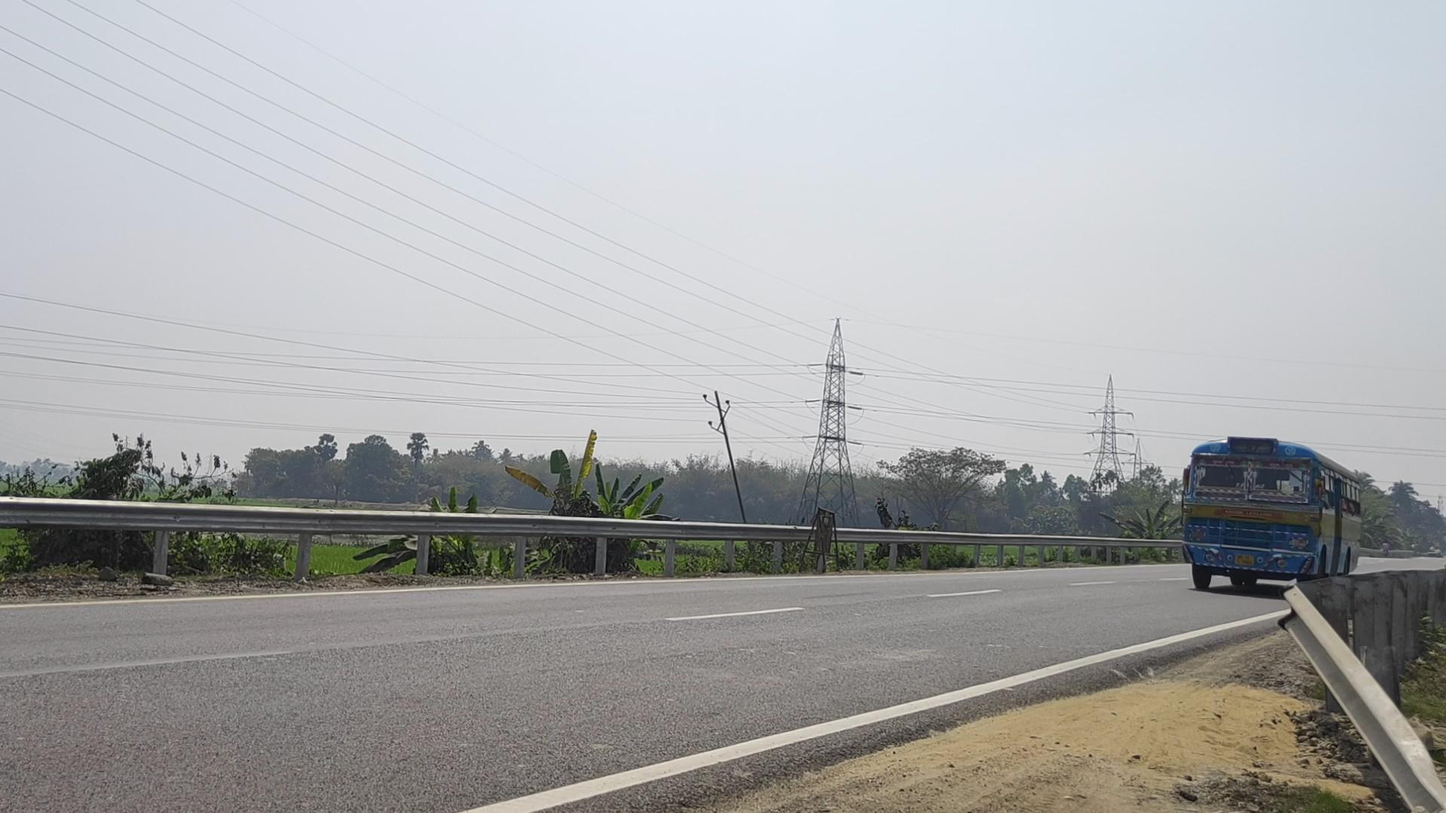Bus: (1182, 437, 1362, 595)
